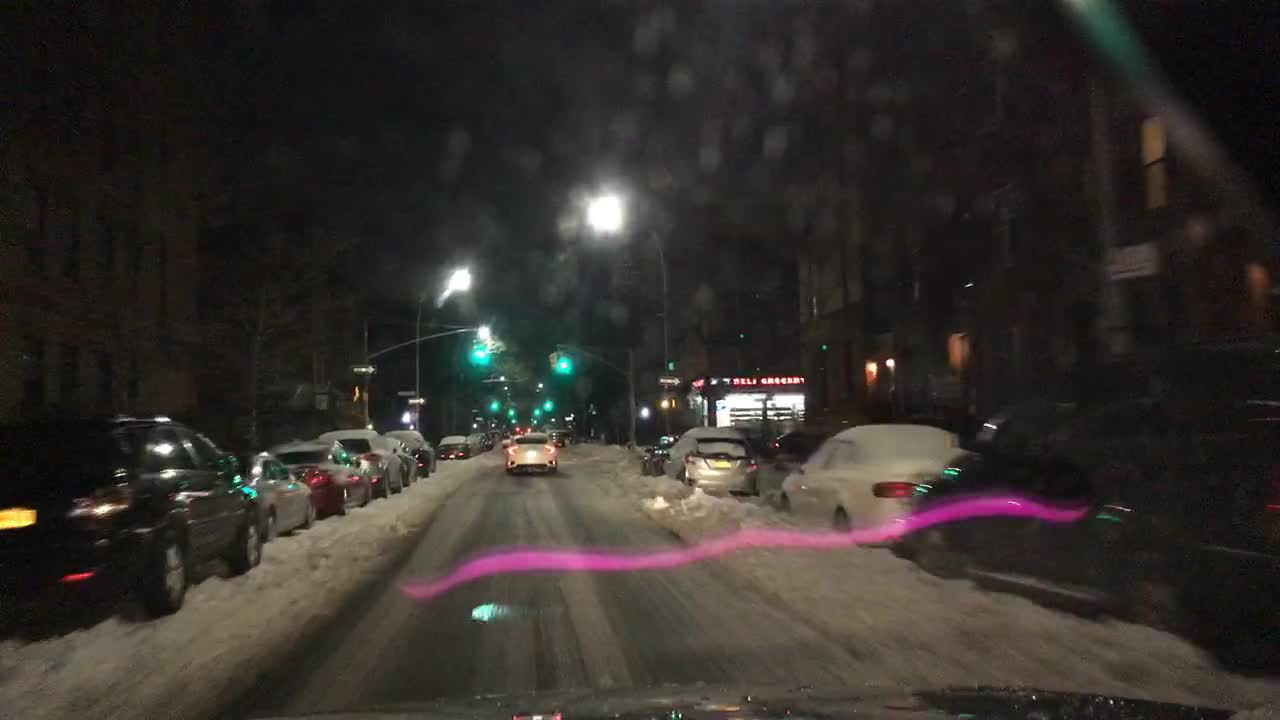car: (907, 344, 1279, 680), (0, 412, 261, 617), (774, 421, 962, 548), (271, 438, 385, 511), (228, 448, 315, 537), (666, 426, 760, 498), (318, 427, 402, 495), (384, 429, 437, 478), (503, 434, 558, 479), (638, 434, 675, 473), (390, 434, 417, 482), (437, 434, 471, 457), (771, 432, 807, 453), (547, 427, 565, 449), (481, 427, 493, 448), (465, 434, 482, 448), (496, 429, 512, 440)
traffic light: (658, 393, 678, 410), (398, 407, 417, 423), (349, 384, 362, 404), (547, 348, 556, 373), (559, 351, 569, 373), (475, 337, 484, 360), (633, 406, 649, 418), (506, 402, 515, 417), (544, 395, 551, 409), (489, 396, 493, 413), (533, 402, 537, 417)
traffic sign: (658, 374, 685, 385), (351, 363, 374, 374), (396, 388, 415, 395), (406, 398, 428, 404)
